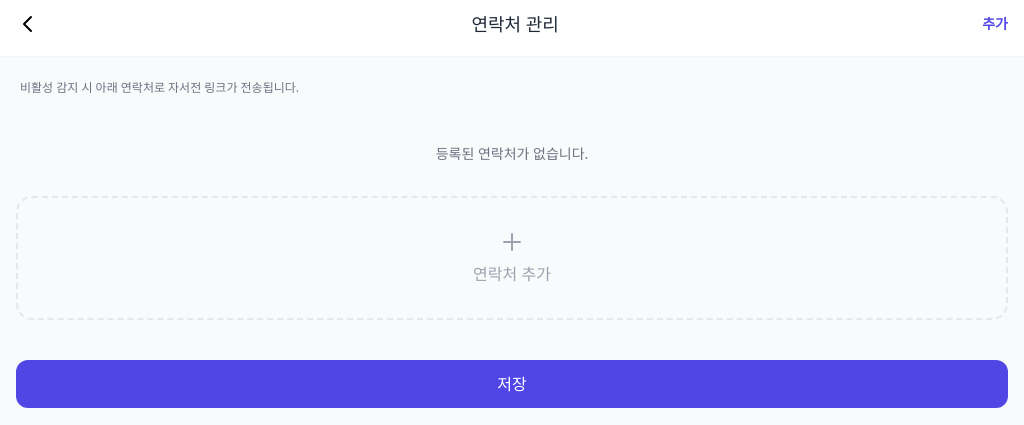
Test: Settings Contacts Flow - Integration Test › Saving State › should disable save button while saving
Expected: the button with test id "add-contact-button" is shown, x1=16 y1=196 x2=1008 y2=320
Click the button "저장".
click(512, 384)  # box x1=16 y1=360 x2=1008 y2=408
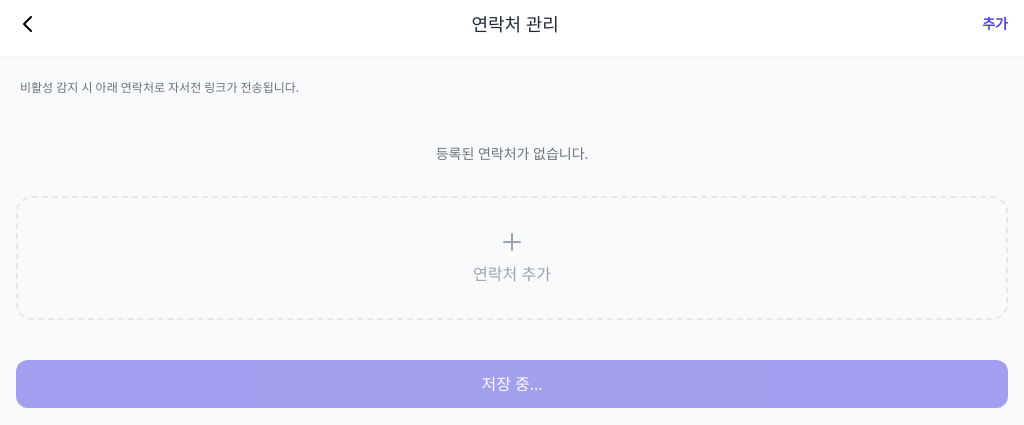
Now the button "저장 중..." is disabled, box x1=16 y1=360 x2=1008 y2=408
